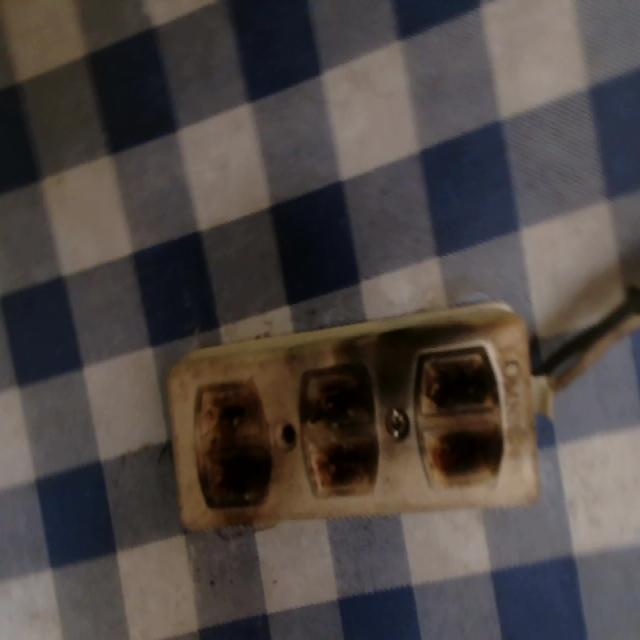-: (419, 348, 509, 488), (197, 376, 284, 509), (299, 360, 385, 491)
